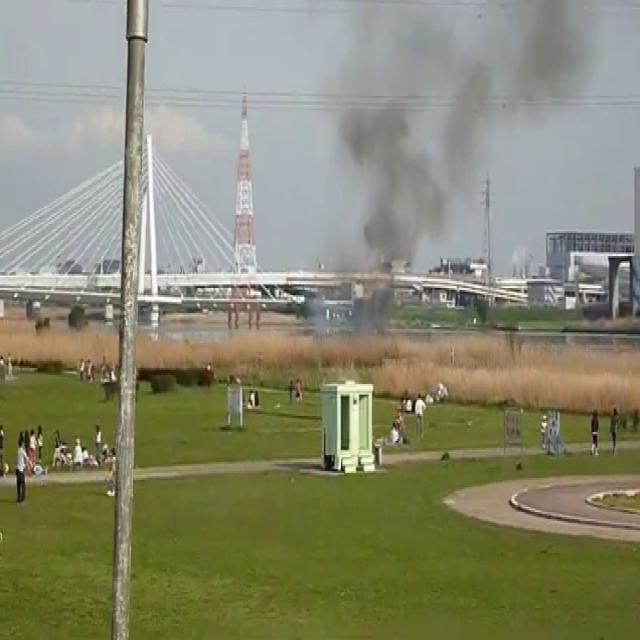Smoke: (304, 1, 634, 268)
